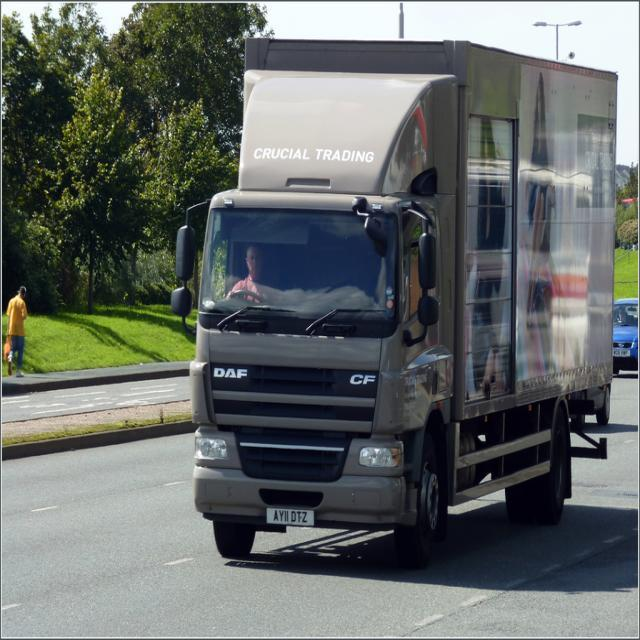bicycle: (184, 27, 623, 560)
